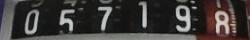digits: (56, 6, 76, 38), (212, 7, 231, 40), (96, 4, 113, 35), (175, 4, 191, 31), (24, 9, 39, 34), (138, 0, 147, 26)
